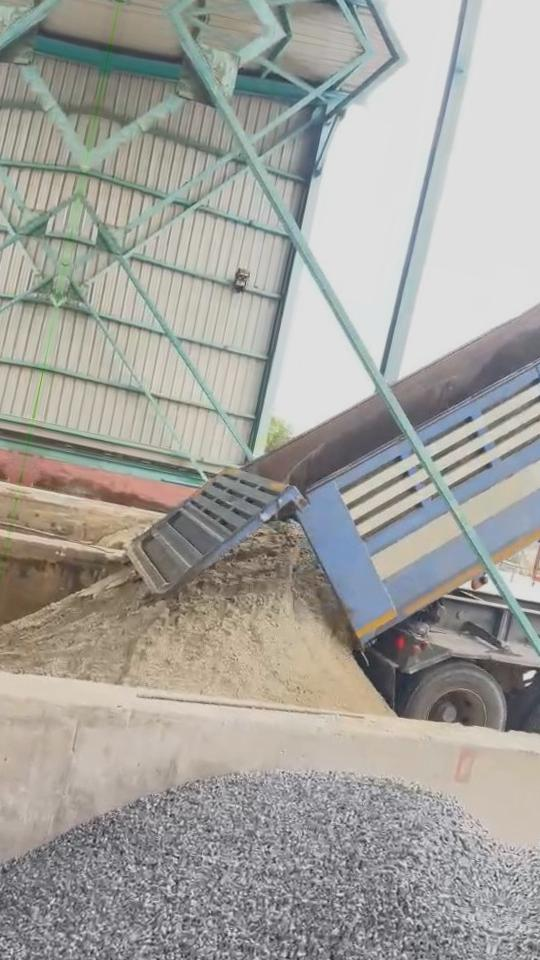gravel: (0, 772, 512, 960)
sand: (0, 524, 389, 713), (98, 527, 141, 549)
